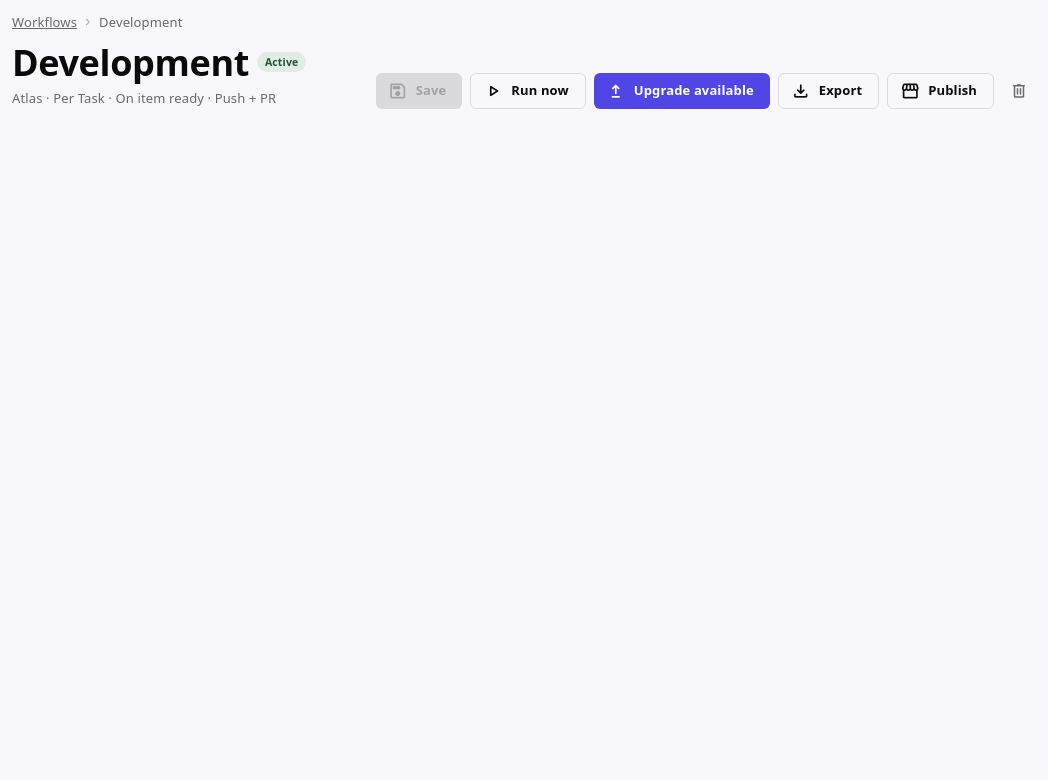
Test: WorkflowHeader Upgrade › surfaces the reason when the upgrade fails
Click the button "Upgrade available" at (682,91), box 594,73 -> 770,109
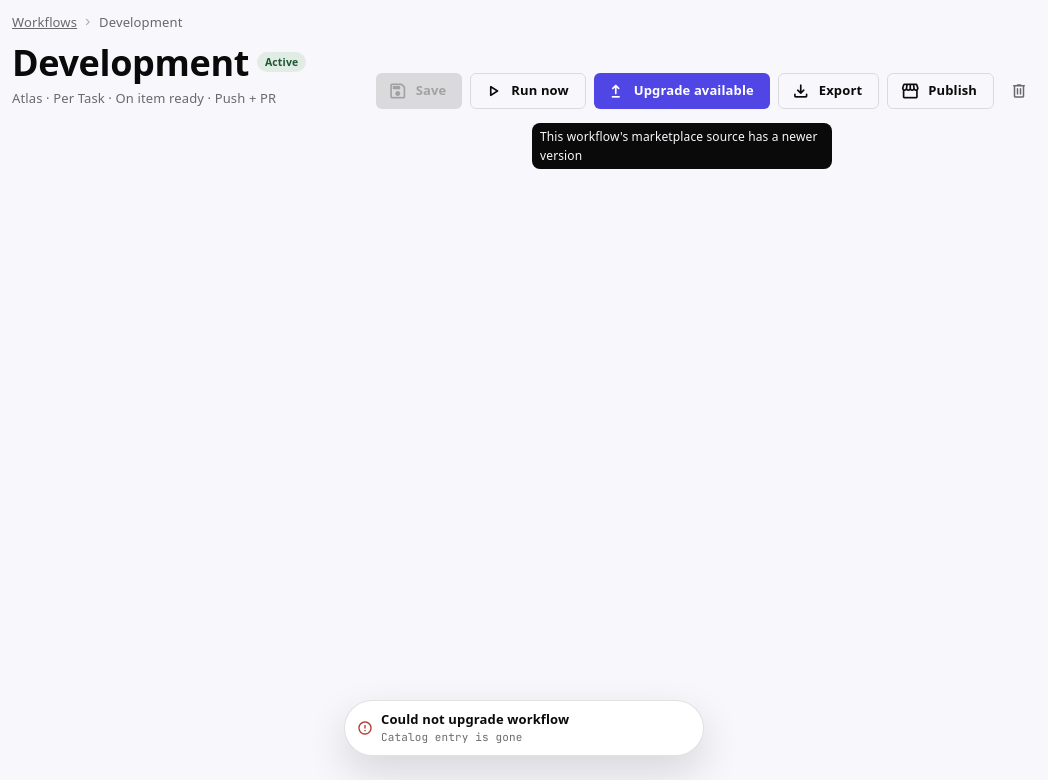
Expected: the text "Could not upgrade workflow" is shown, 381,710 -> 569,728
Expected: the text "Catalog entry is gone" is shown, 381,730 -> 522,744
